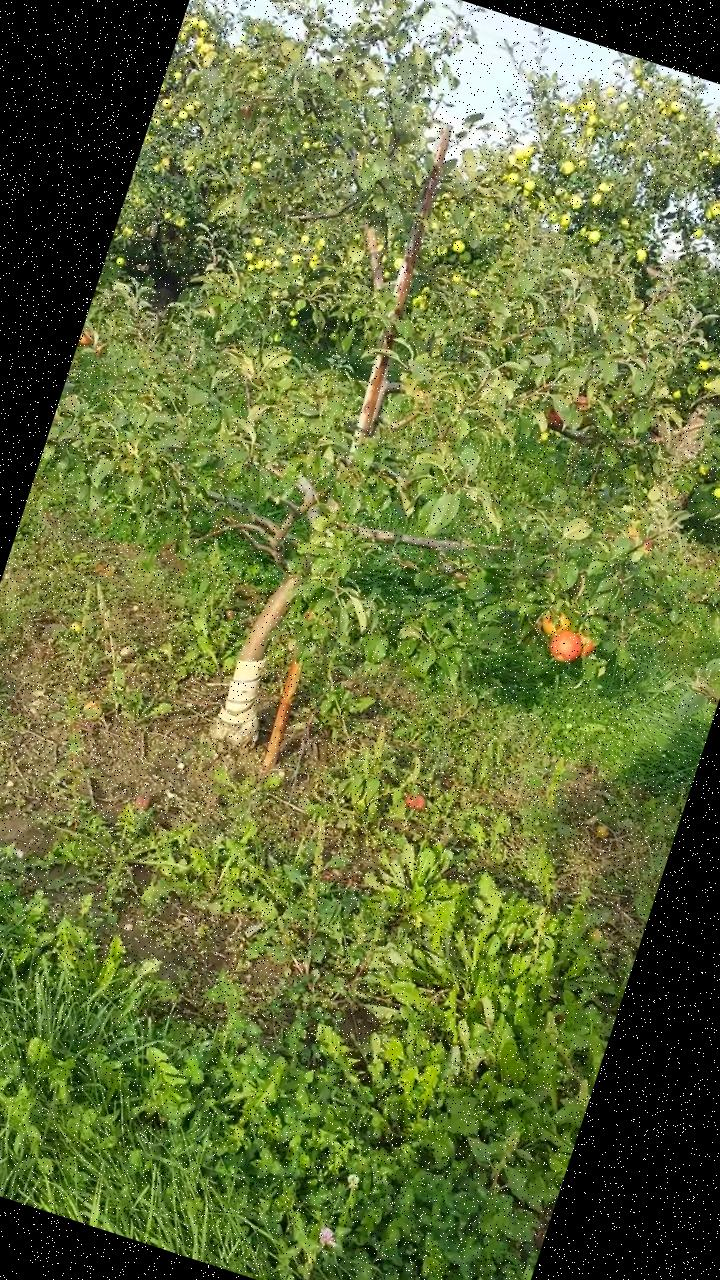Apple: (545, 624, 584, 666), (538, 605, 574, 639), (544, 402, 570, 428), (573, 390, 594, 412), (576, 634, 595, 656), (78, 328, 96, 348)
